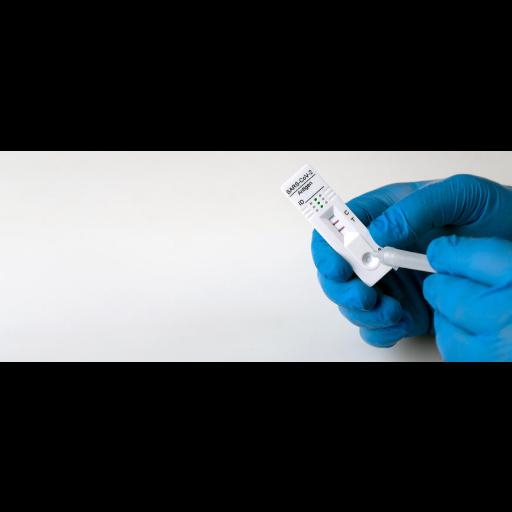Pos: (281, 162, 397, 287)
